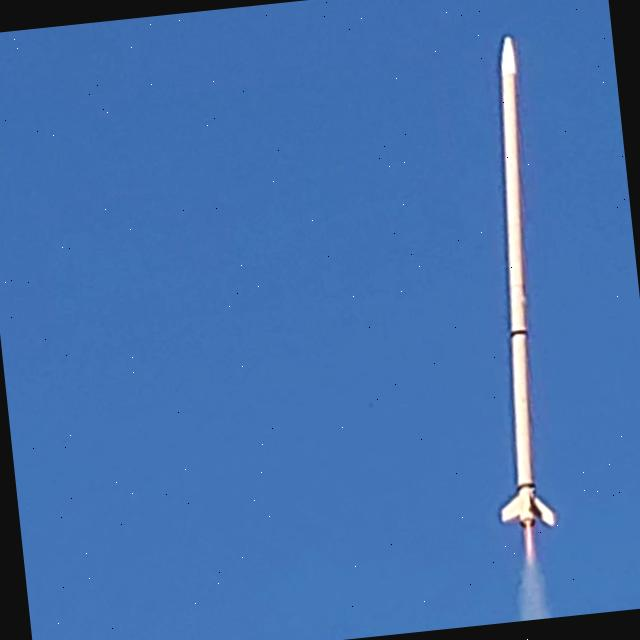rocket: (497, 35, 555, 548)
